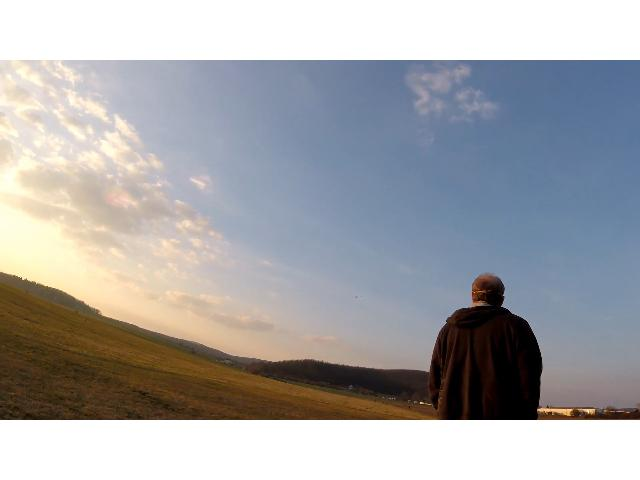Anti-Drone: (352, 290, 366, 304)
